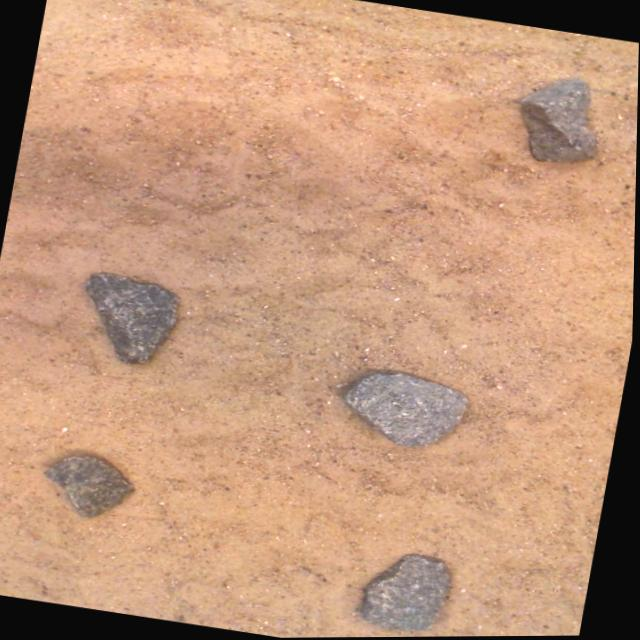rock: (347, 373, 470, 447), (88, 272, 180, 363), (365, 554, 454, 630), (522, 78, 599, 162), (48, 455, 136, 517)
